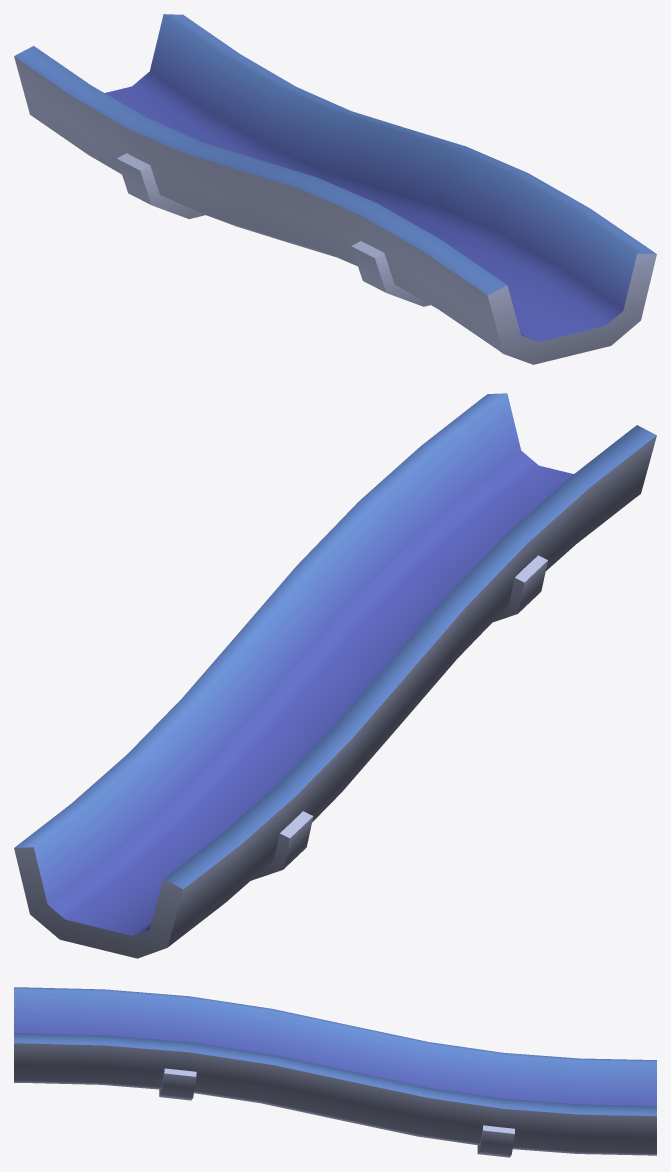
Rendered from coaster-flume-straight-hill-complete-half.glb.
3 views of the same model, one above another, from view 1: azimuth 30°, elevation 25°; view 2: azimuth 150°, elevation 25°; view 3: azimuth 270°, elevation 25° (orthographic). The views are drawn at different scales.
Visible parts, largest first — view 1: coaster-flume-straight-hill-complete-half; view 2: coaster-flume-straight-hill-complete-half; view 3: coaster-flume-straight-hill-complete-half.
Boxes of the visible parts, left/top/right/bottom form: coaster-flume-straight-hill-complete-half: left=14, top=14, right=656, bottom=364; coaster-flume-straight-hill-complete-half: left=14, top=393, right=656, bottom=958; coaster-flume-straight-hill-complete-half: left=14, top=987, right=656, bottom=1157.
Size of the model in its own units: 0.8448 by 0.9082 by 4.
Materials: 1 (1 with a texture image).
